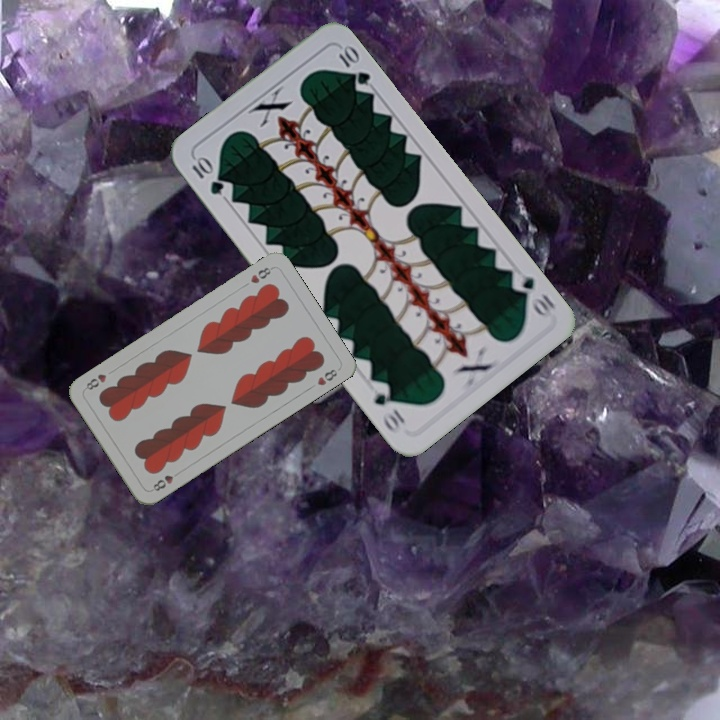G10: (506, 267, 558, 321), (187, 152, 227, 198)
H8: (149, 468, 183, 494), (246, 263, 276, 286)
